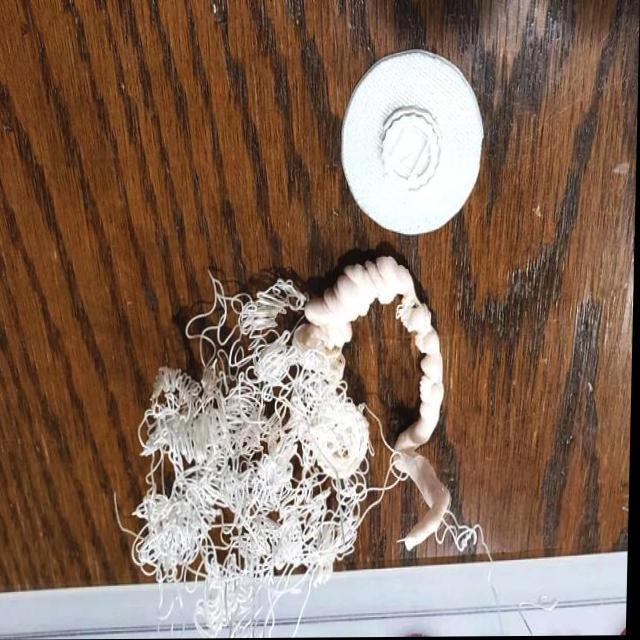spaghetti: (129, 384, 277, 580), (216, 282, 302, 396), (280, 482, 358, 570), (303, 394, 365, 486), (201, 576, 282, 636)
